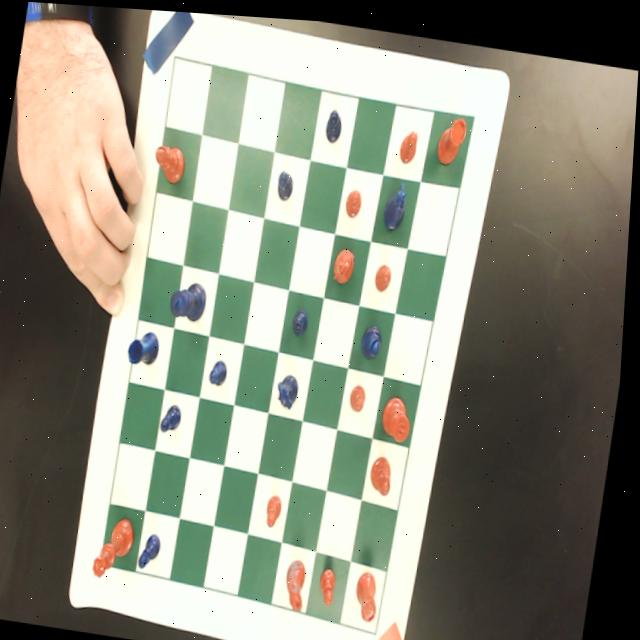B: (361, 316, 386, 355)
K: (171, 275, 211, 321)
N: (383, 172, 409, 227), (277, 368, 304, 405)
P: (143, 528, 168, 569), (163, 398, 186, 433), (323, 103, 344, 139), (210, 353, 232, 385), (277, 162, 297, 197), (292, 304, 312, 332)
R: (128, 323, 165, 364)
b: (150, 137, 189, 184), (372, 448, 398, 491)
k: (382, 387, 418, 437)
n: (286, 551, 316, 611), (332, 238, 359, 281)
p: (321, 560, 344, 603), (398, 121, 420, 159), (269, 489, 288, 523), (376, 255, 395, 286), (351, 378, 371, 407), (345, 182, 364, 211)
q: (97, 509, 142, 580)
r: (433, 106, 470, 162), (355, 563, 388, 616)
